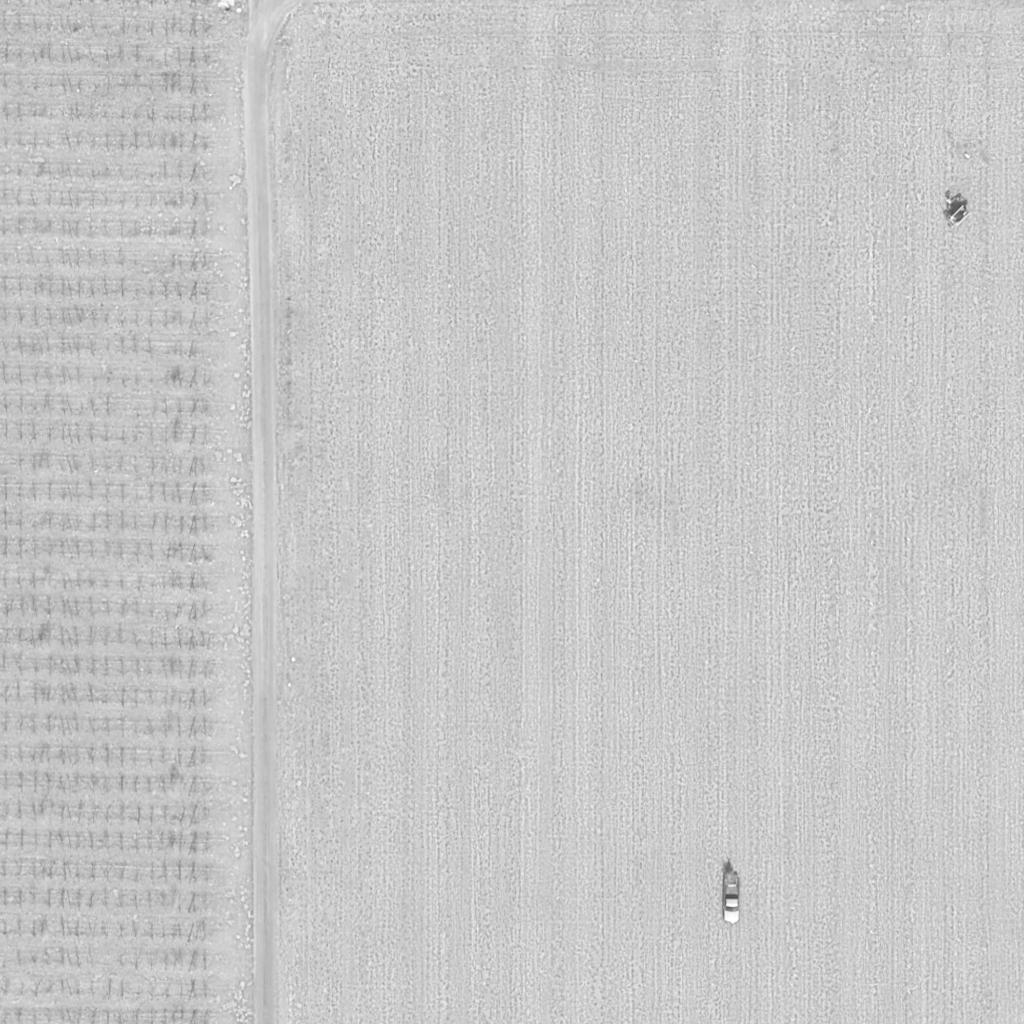vehicle: (724, 875, 740, 925)
